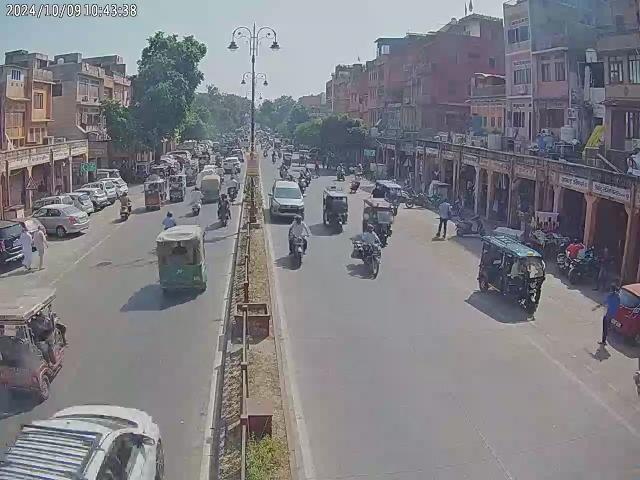auto: (0, 284, 66, 398), (475, 234, 545, 313), (154, 223, 208, 296), (362, 197, 394, 245), (321, 186, 350, 232), (144, 178, 166, 210), (200, 173, 222, 204), (168, 173, 186, 203)
car: (0, 406, 168, 480), (30, 199, 90, 239), (604, 280, 640, 342), (74, 177, 128, 207), (269, 180, 305, 221), (0, 216, 24, 272)
helmet: (295, 214, 303, 224)
motorbike: (566, 254, 608, 286), (406, 191, 428, 209)
motorbike-rider: (350, 220, 384, 278), (287, 214, 310, 267), (216, 198, 232, 226), (348, 172, 364, 193)
no_helmet: (366, 222, 376, 234)
person: (20, 223, 48, 272), (436, 199, 452, 240)
scooty: (454, 214, 486, 238)
scooty-rider: (118, 192, 132, 220), (190, 186, 203, 216), (336, 162, 346, 182)
